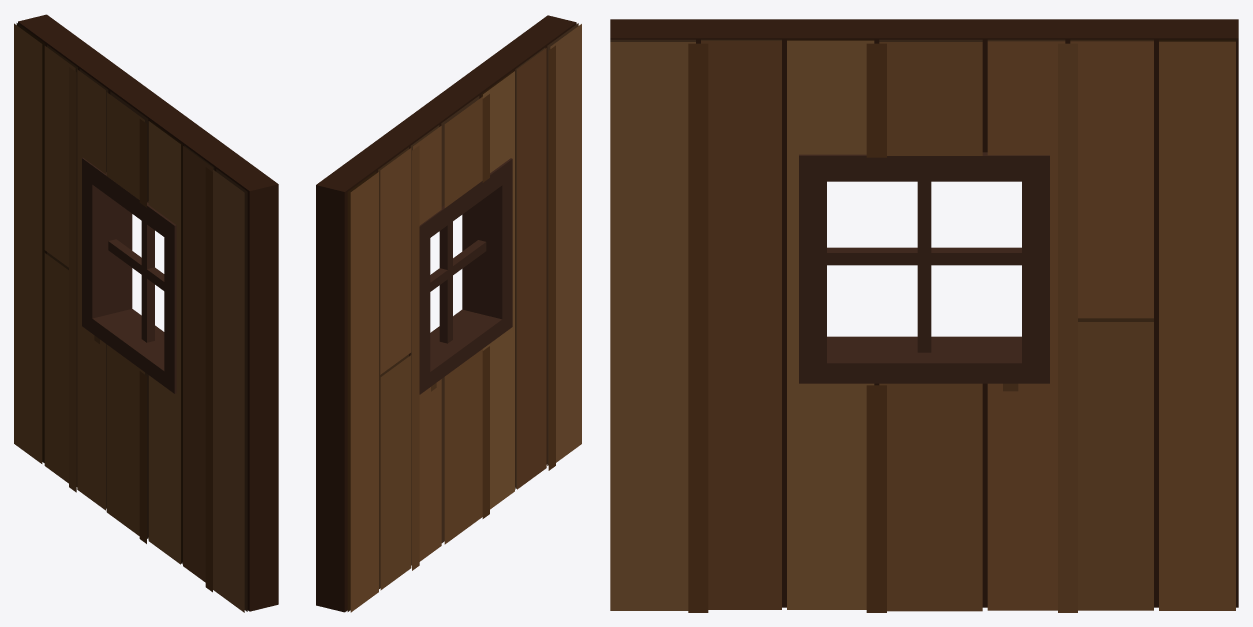
File: wall-timber-window.glb
3 views of the same model, side by side, from view 1: azimuth 30°, elevation 25°; view 2: azimuth 150°, elevation 25°; view 3: azimuth 270°, elevation 25° (orthographic). The views are drawn at different scales.
Parts seen in each view (by area): view 1: wall-timber-window; view 2: wall-timber-window; view 3: wall-timber-window.
Boxes of the visible parts, box(x1,y1,x2,y2) form: wall-timber-window: box(14, 14, 278, 612); wall-timber-window: box(316, 15, 581, 612); wall-timber-window: box(610, 19, 1238, 612).
Bounding box in the file's own units: 0.112 × 1 × 1.
